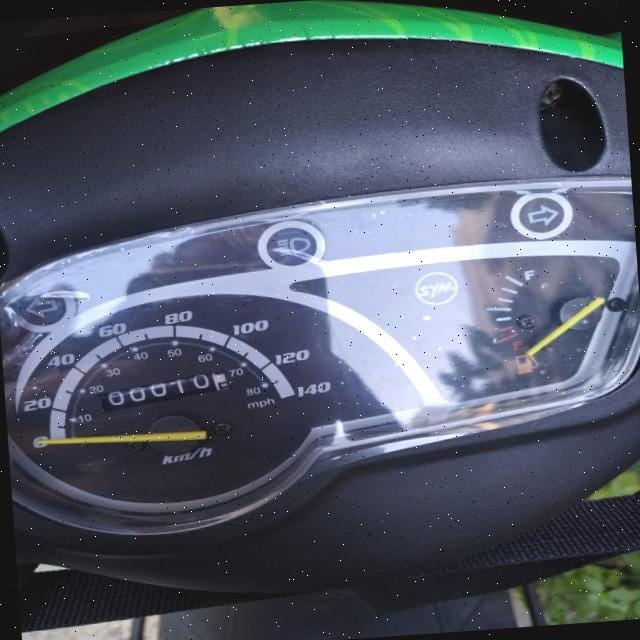odometer: (93, 368, 230, 414)
